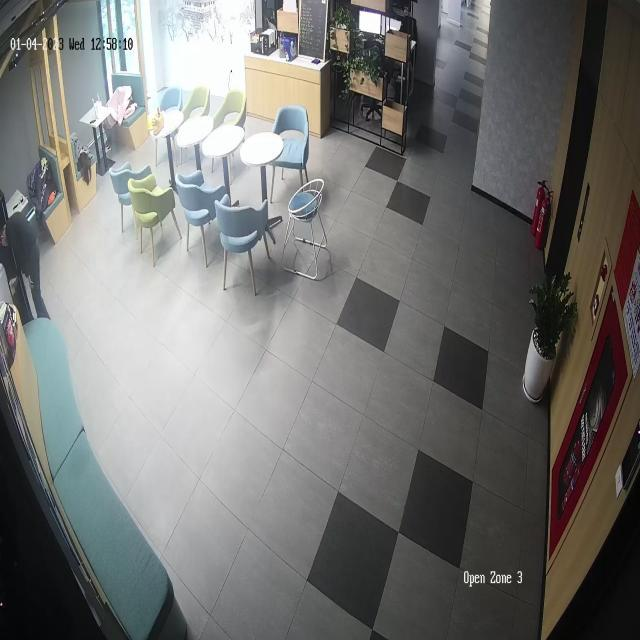person: (0, 191, 51, 321)
